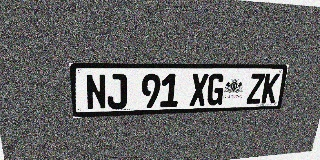1: (160, 74, 179, 107)
9: (142, 74, 161, 108)
G: (206, 73, 225, 105)
J: (107, 74, 127, 109)
K: (261, 73, 280, 103)
N: (85, 74, 107, 110)
X: (189, 74, 209, 106)
Z: (246, 73, 265, 104)
